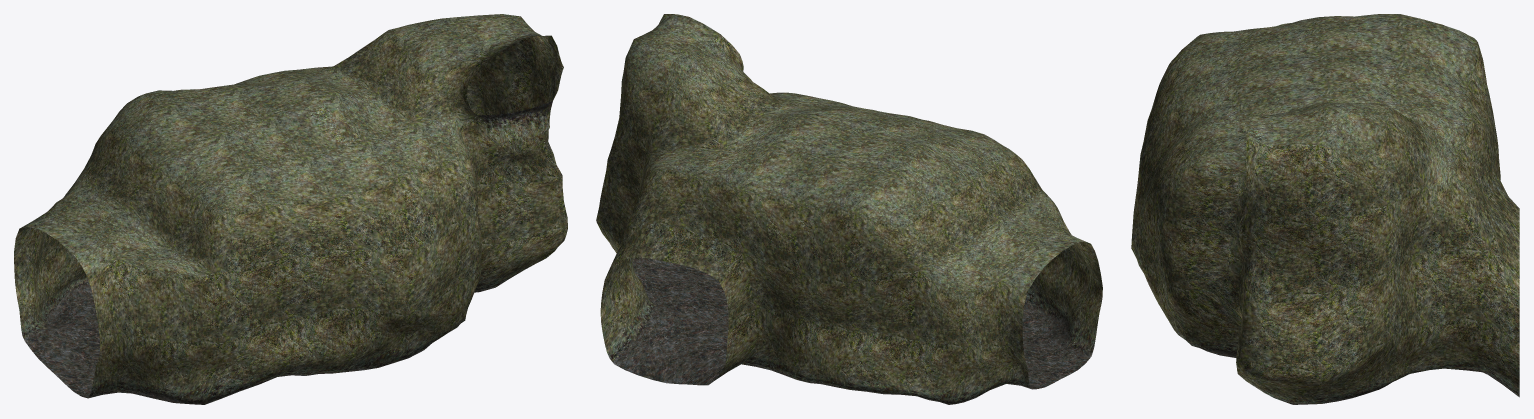
The model's file is thm_all_cave_s01_damprock_r9_mesh_r9.fbx.
3 views of the same model, side by side, from view 1: azimuth 30°, elevation 25°; view 2: azimuth 150°, elevation 25°; view 3: azimuth 270°, elevation 25° (orthographic). The views are drawn at different scales.
Parts seen in each view (by area): view 1: mesh_node; view 2: mesh_node; view 3: mesh_node.
Part boxes in pixels (bbox=[...]): mesh_node: bbox=[14, 14, 567, 404]; mesh_node: bbox=[596, 14, 1102, 404]; mesh_node: bbox=[1131, 14, 1519, 404].
Bounding box in the file's own units: 80.39 × 43.77 × 50.19.
